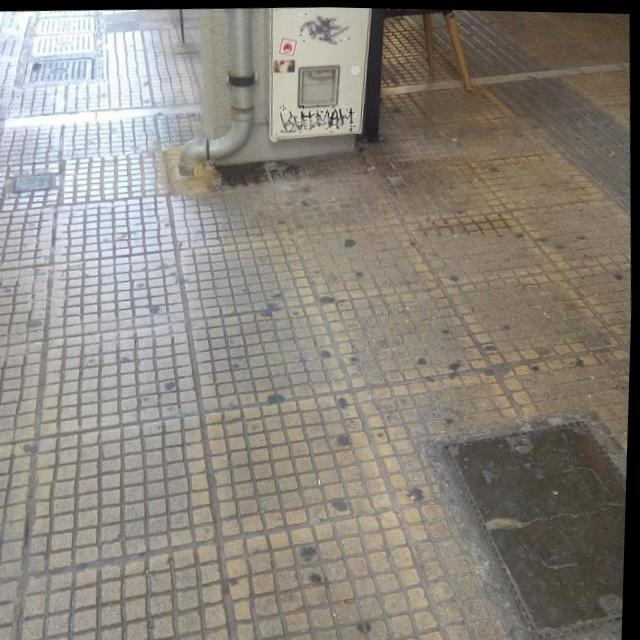-: (279, 101, 359, 132), (298, 10, 350, 44)
